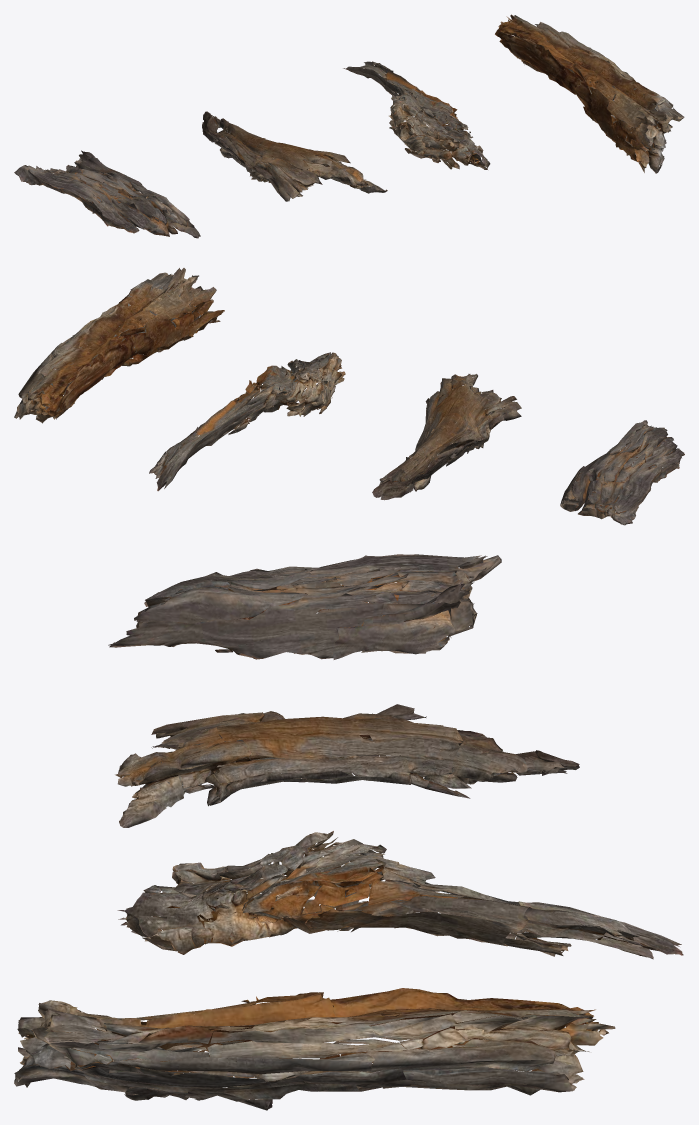
File: bark_debris_01.glb
3 renders of one model, top to bottom at view 1: azimuth 30°, elevation 25°; view 2: azimuth 150°, elevation 25°; view 3: azimuth 270°, elevation 25°, orthographic. The views are drawn at different scales.
Visible parts, largest first — view 1: bark_debris_01_d, bark_debris_01_a, bark_debris_01_b, bark_debris_01_c; view 2: bark_debris_01_d, bark_debris_01_b, bark_debris_01_c, bark_debris_01_a; view 3: bark_debris_01_d, bark_debris_01_c, bark_debris_01_a, bark_debris_01_b.
Part boxes in pixels (<box>): bark_debris_01_d: <box>495,14,684,173</box>; bark_debris_01_a: <box>14,150,200,238</box>; bark_debris_01_b: <box>202,111,387,201</box>; bark_debris_01_c: <box>343,61,490,169</box>; bark_debris_01_d: <box>14,268,224,423</box>; bark_debris_01_b: <box>372,374,521,500</box>; bark_debris_01_c: <box>149,352,345,491</box>; bark_debris_01_a: <box>560,420,684,525</box>; bark_debris_01_d: <box>14,988,615,1110</box>; bark_debris_01_c: <box>117,831,683,959</box>; bark_debris_01_a: <box>108,554,501,659</box>; bark_debris_01_b: <box>115,704,579,827</box>.
Bounding box in the file's own units: 1.21 × 0.1108 × 0.6724.
Materials: 1 (1 with a texture image).
